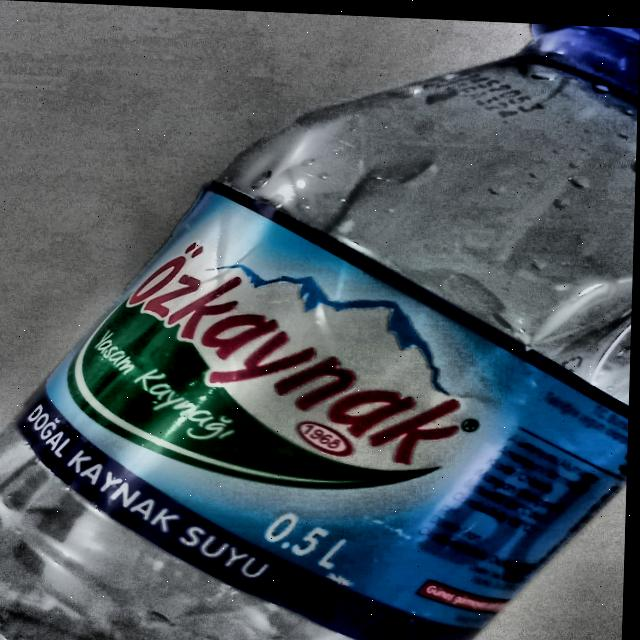plastic: (0, 19, 640, 640)
